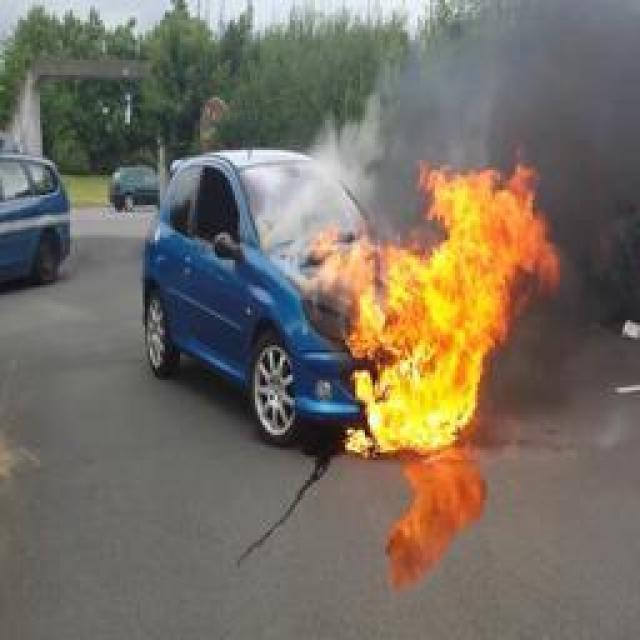Fire: (318, 158, 566, 454)
